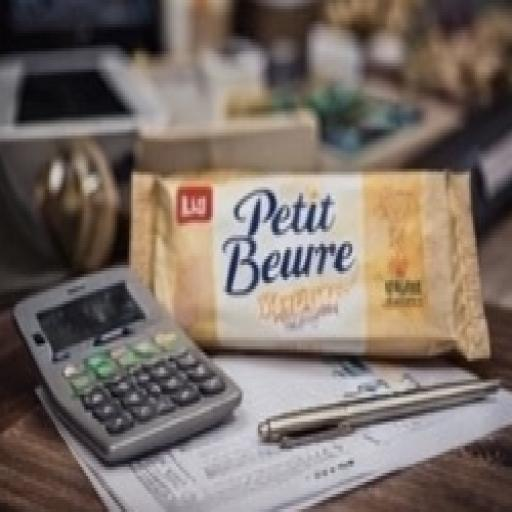petit-beurre: (90, 107, 500, 421)
